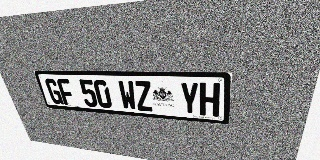0: (92, 80, 113, 108)
5: (78, 79, 99, 107)
F: (56, 79, 76, 106)
G: (44, 78, 64, 105)
H: (200, 82, 220, 117)
W: (117, 80, 137, 110)
Y: (179, 82, 199, 115)
Z: (133, 81, 153, 112)
